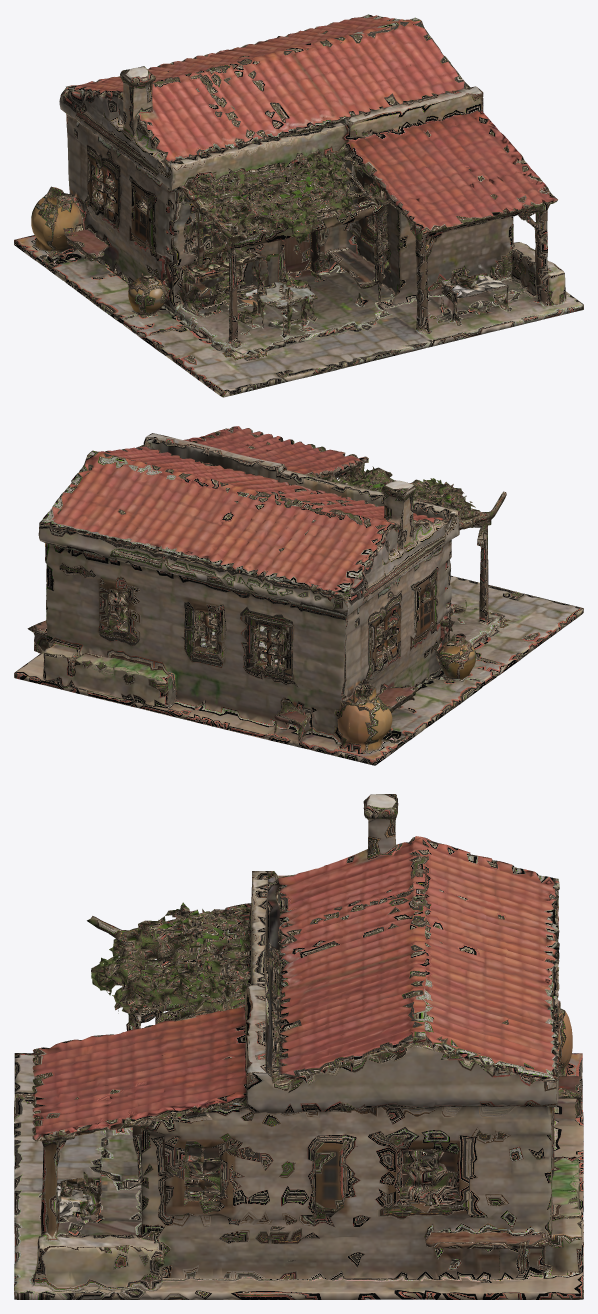
The model's file is house__greek-tavern.glb.
The picture shows the model from 3 angles, top to bottom: view 1: azimuth 30°, elevation 25°; view 2: azimuth 150°, elevation 25°; view 3: azimuth 270°, elevation 25°; orthographic projection. The views are drawn at different scales.
Visible parts, largest first — view 1: Mesh_0; view 2: Mesh_0; view 3: Mesh_0.
Boxes of the visible parts, x1,y1,x2,y2 form: Mesh_0: (14, 14, 583, 397); Mesh_0: (14, 426, 583, 765); Mesh_0: (14, 794, 583, 1299).
Size of the model in its own units: 2 by 1.16 by 2.
1 material, 1 textured.
